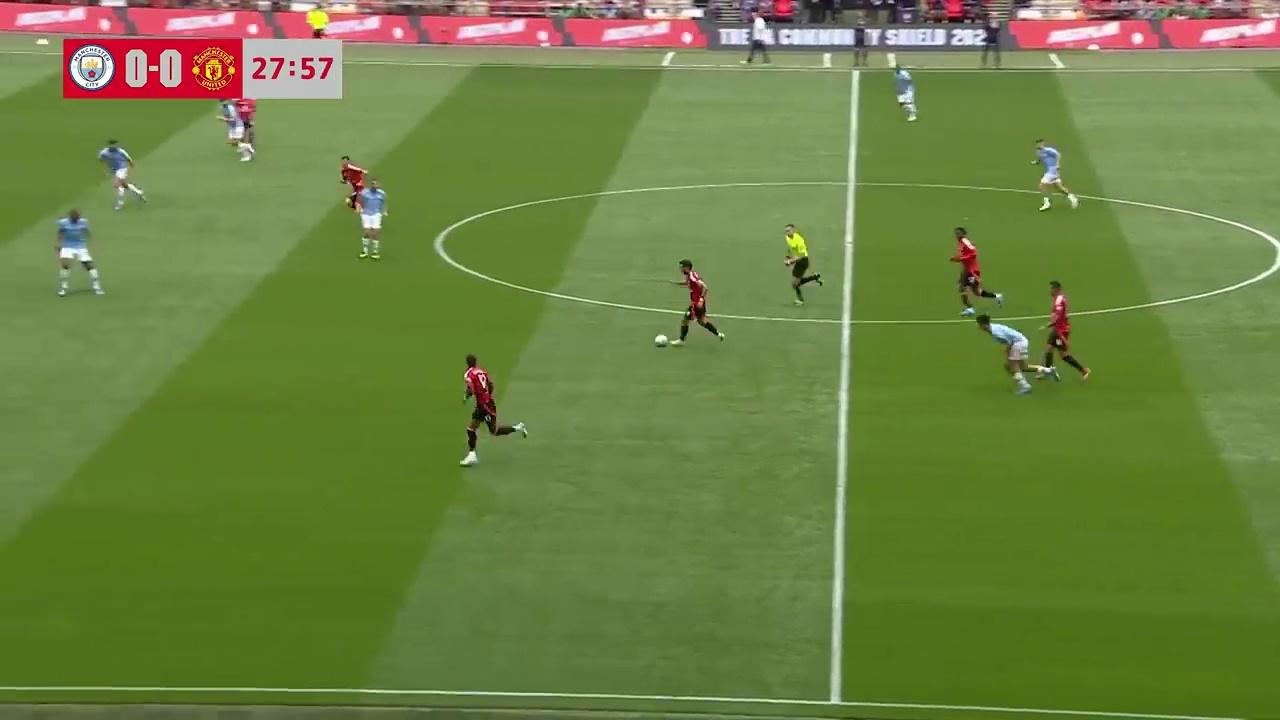ball: (653, 331, 668, 347)
player: (460, 354, 529, 465), (1036, 281, 1090, 383), (977, 302, 1034, 395), (459, 354, 504, 466), (55, 207, 106, 297), (949, 227, 999, 318), (676, 260, 725, 344), (96, 138, 146, 210), (1032, 138, 1077, 210), (354, 179, 387, 259), (338, 155, 365, 212), (216, 95, 241, 151), (236, 94, 257, 159), (895, 63, 917, 121)
referee: (782, 223, 824, 306), (306, 7, 330, 41)
